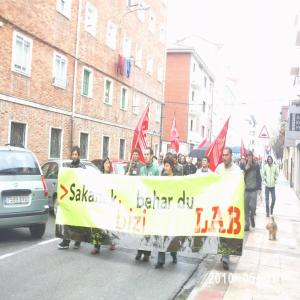Vehicle-registration-plate: (5, 196, 30, 205)
